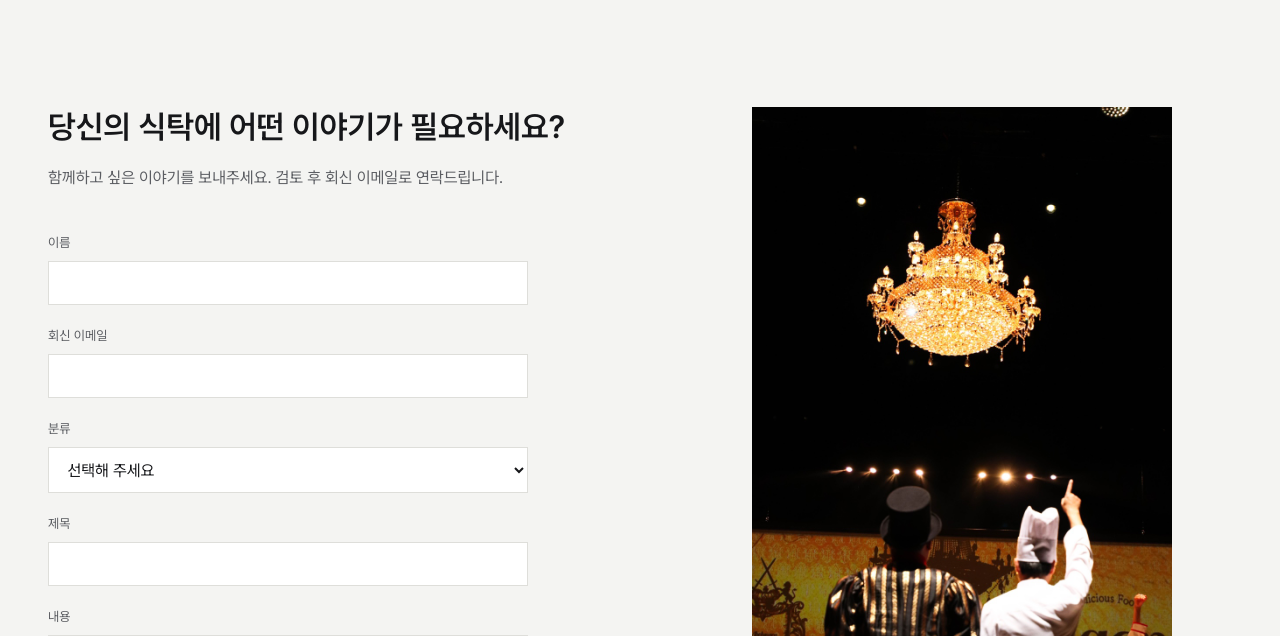
Test case: ProposalPage › 레이트리밋에 걸리면 에러 메시지를 보여준다
Type "김철수" into the field labelled "이름" at coordinates (288, 283), box [48,261,528,305]
Type "chulsoo@example.com" into the field labelled "회신 이메일" at coordinates (288, 376), box [48,354,528,398]
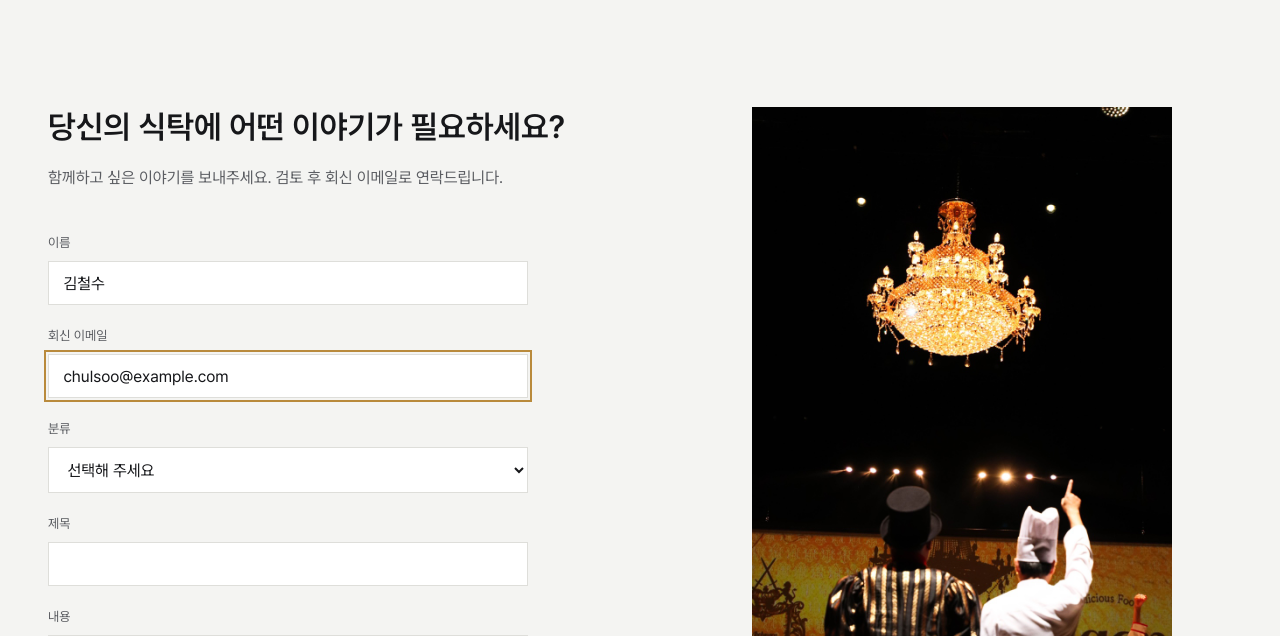
Select "기업 행사용" in the dropdown labelled "분류" at coordinates (288, 470), box [48,447,528,493]
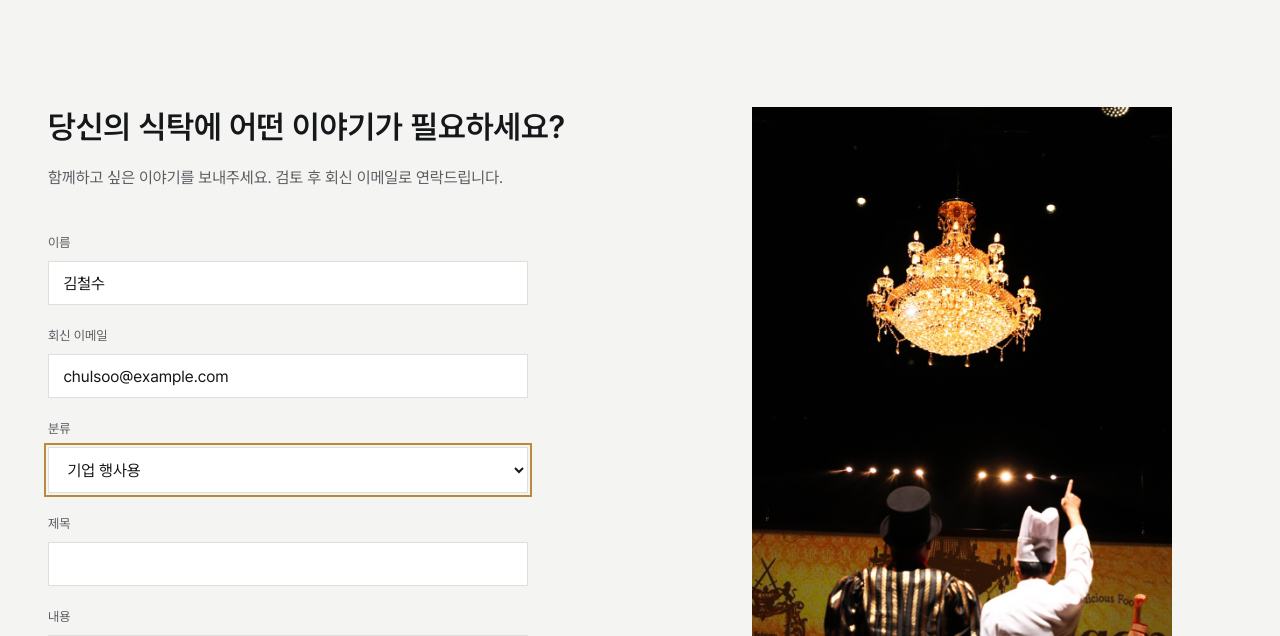
Type "콜라보 제안" into the field labelled "제목" at coordinates (288, 564), box [48,542,528,586]
(page scrolled)
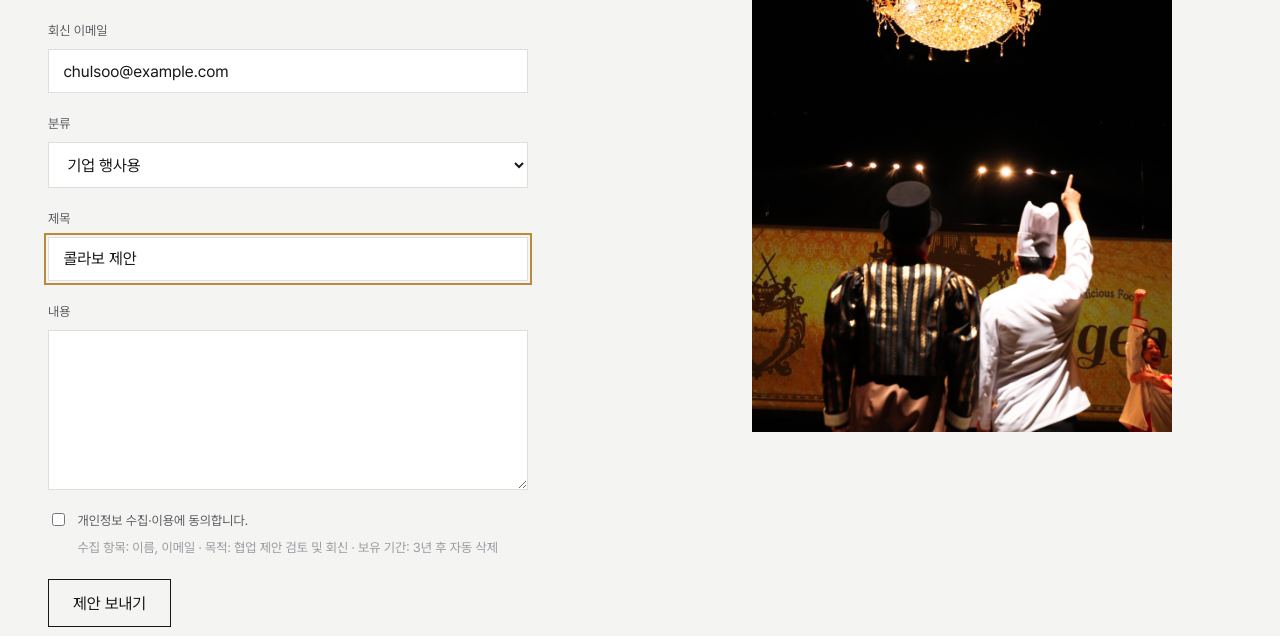
Type "같이 해보고 싶습니다." into the text box labelled "내용" at coordinates (288, 410), box [48,330,528,490]
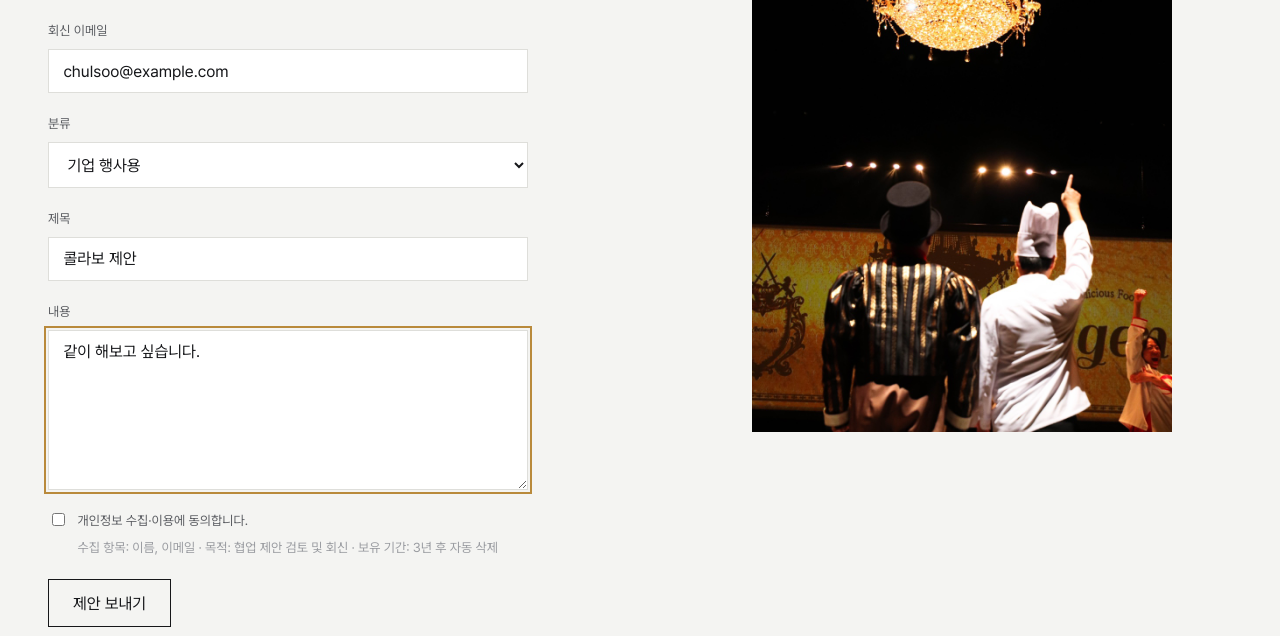
Click the checkbox labelled "개인정보 수집·이용에 동의합니다" at coordinates (58, 519), box [52,513,65,526]
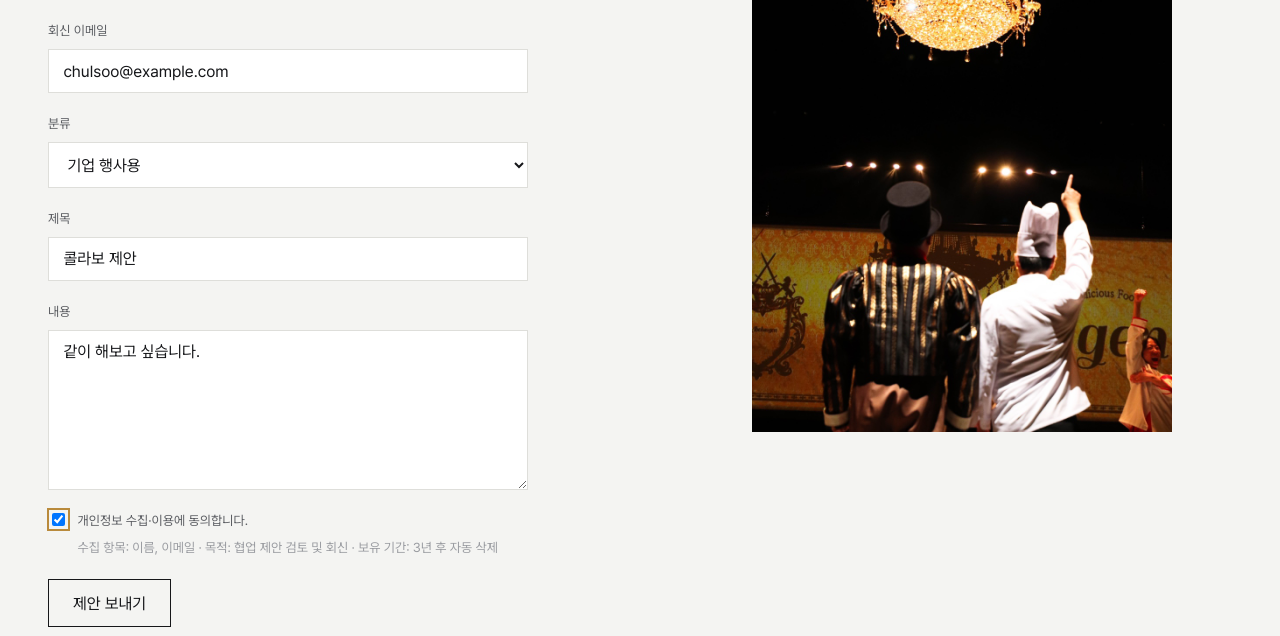
Click the button "제안 보내기" at coordinates (110, 603), box [48,579,171,627]
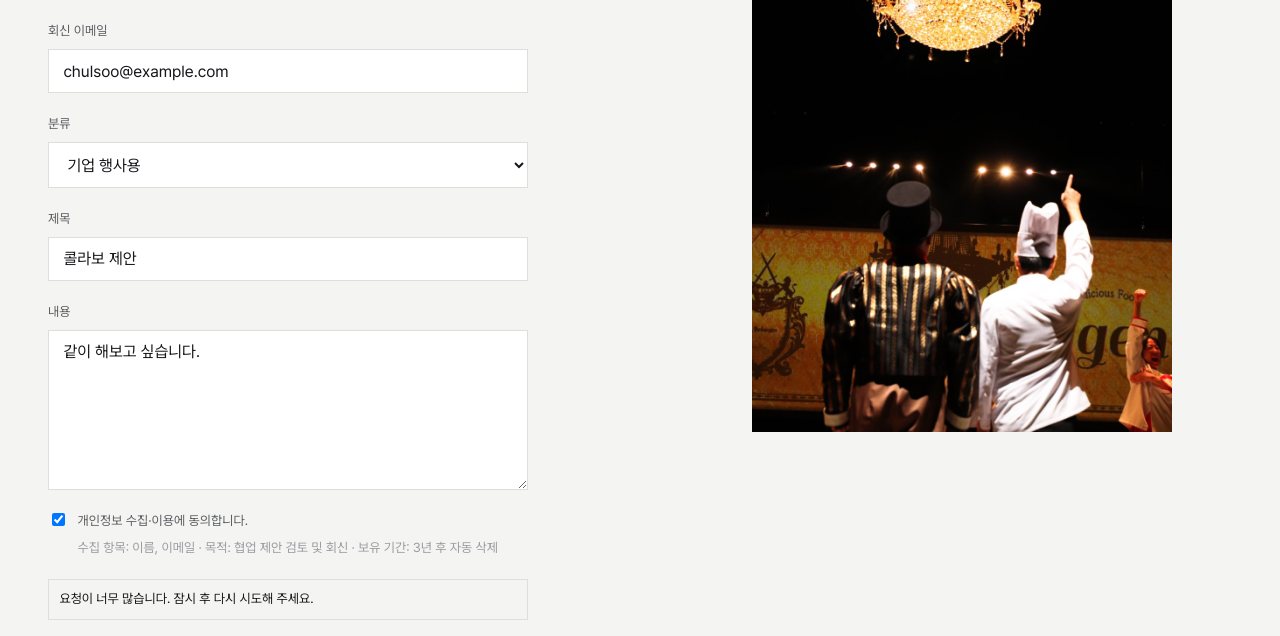
Expected: the message reads "요청이 너무 많습니다. 잠시 후 다시 시도해 주세요.", [59,591,314,606]
